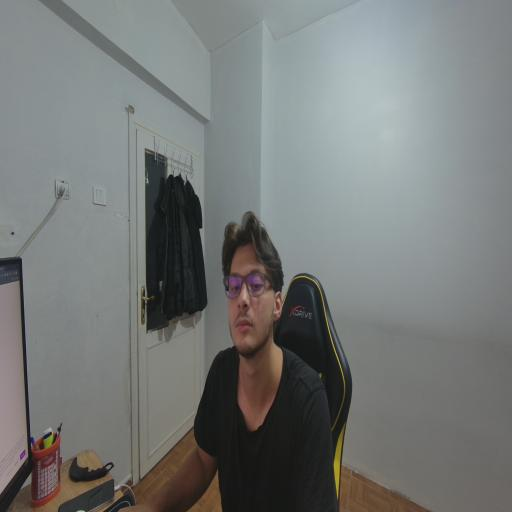cuma-face-v2: (216, 211, 286, 352)
